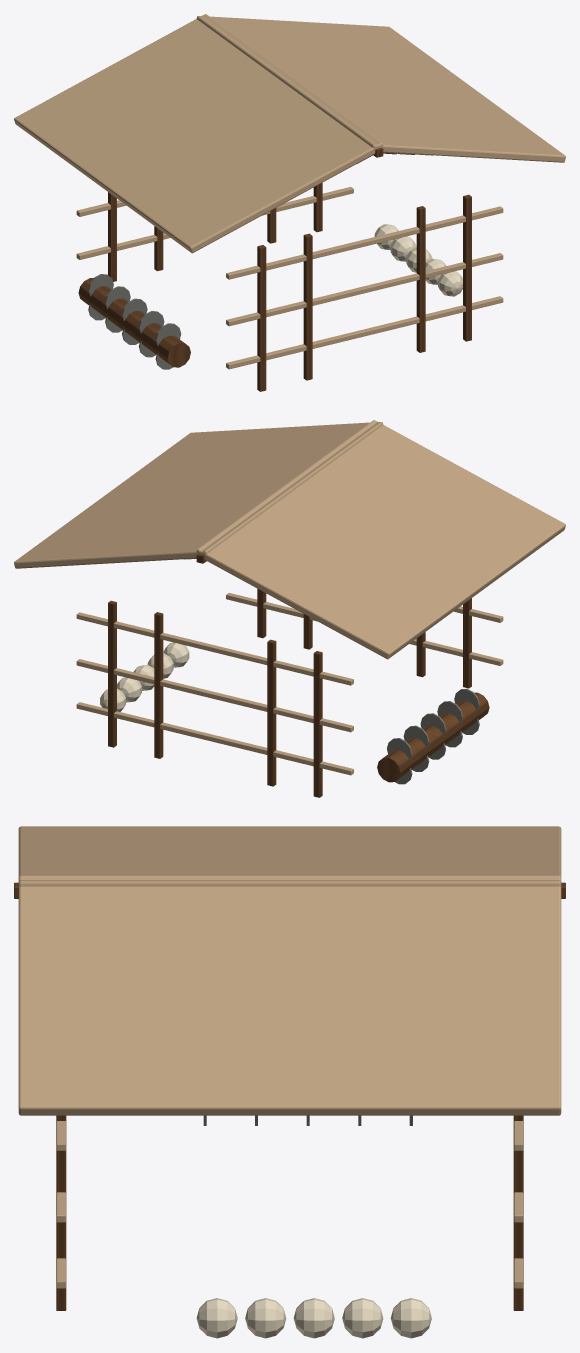
Rendered from shire_mill_craftwork.glb.
3 renders of one model, top to bottom at view 1: azimuth 30°, elevation 25°; view 2: azimuth 150°, elevation 25°; view 3: azimuth 270°, elevation 25°, orthographic. The views are drawn at different scales.
Parts seen in each view (by area): view 1: Crafted_weathered_oak, Crafted_oak_grain, Crafted_forged_iron, Crafted_woven_linen; view 2: Crafted_weathered_oak, Crafted_oak_grain, Crafted_forged_iron, Crafted_woven_linen; view 3: Crafted_weathered_oak, Crafted_woven_linen, Crafted_oak_grain.
Boxes of the visible parts, bbox=[...] form: Crafted_weathered_oak: bbox=[14, 14, 565, 369]; Crafted_oak_grain: bbox=[78, 148, 471, 391]; Crafted_forged_iron: bbox=[88, 274, 181, 369]; Crafted_woven_linen: bbox=[374, 224, 462, 296]; Crafted_weathered_oak: bbox=[14, 420, 565, 775]; Crafted_oak_grain: bbox=[108, 554, 489, 797]; Crafted_forged_iron: bbox=[387, 688, 479, 784]; Crafted_woven_linen: bbox=[100, 642, 189, 711]; Crafted_weathered_oak: bbox=[18, 826, 561, 1288]; Crafted_woven_linen: bbox=[196, 1298, 431, 1338]; Crafted_oak_grain: bbox=[14, 882, 565, 1310].
Size of the model in its own units: 10.96 by 6.49 by 9.1.
4 materials, 1 textured.
